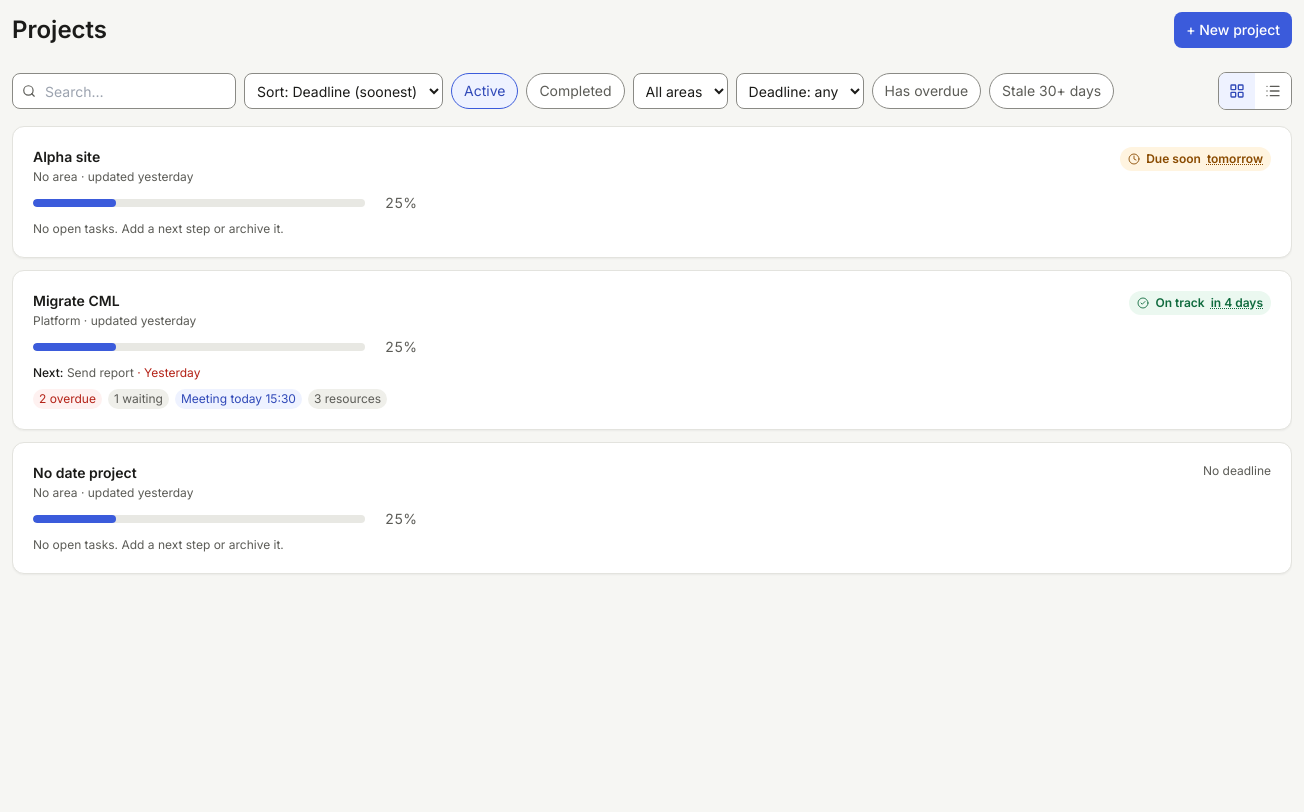
Test: ProjectsPage › sorting, filters and search are written to the URL
The image size is (1304, 812).
Expected: the heading "Migrate CML" is shown, x1=33 y1=292 x2=120 y2=309
Select "Sort: Name" in the dropdown named "Sort by" at (344, 91), box x1=244 y1=73 x2=443 y2=109
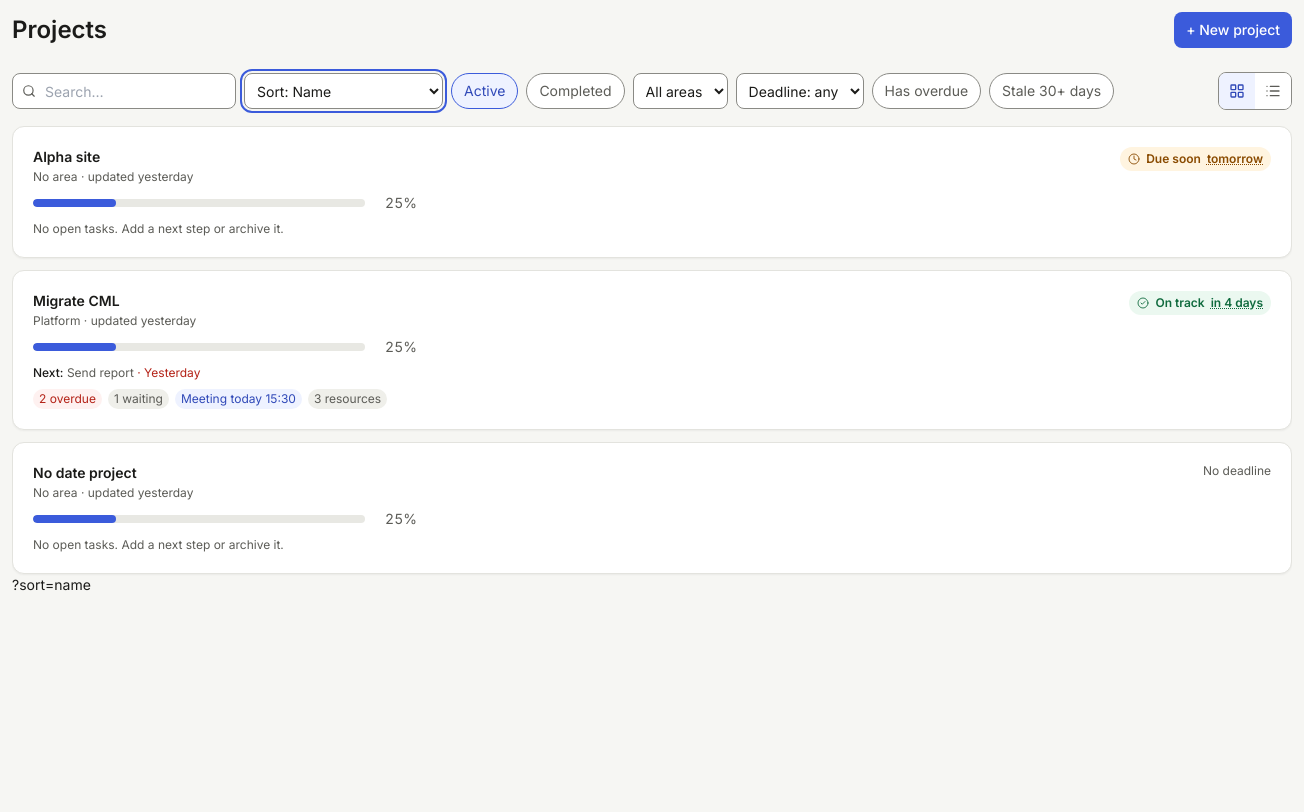
Now the text with test id "search" reads "?sort=name", box x1=12 y1=576 x2=91 y2=593
Click the button "Has overdue" at (926, 91), box x1=872 y1=73 x2=981 y2=109
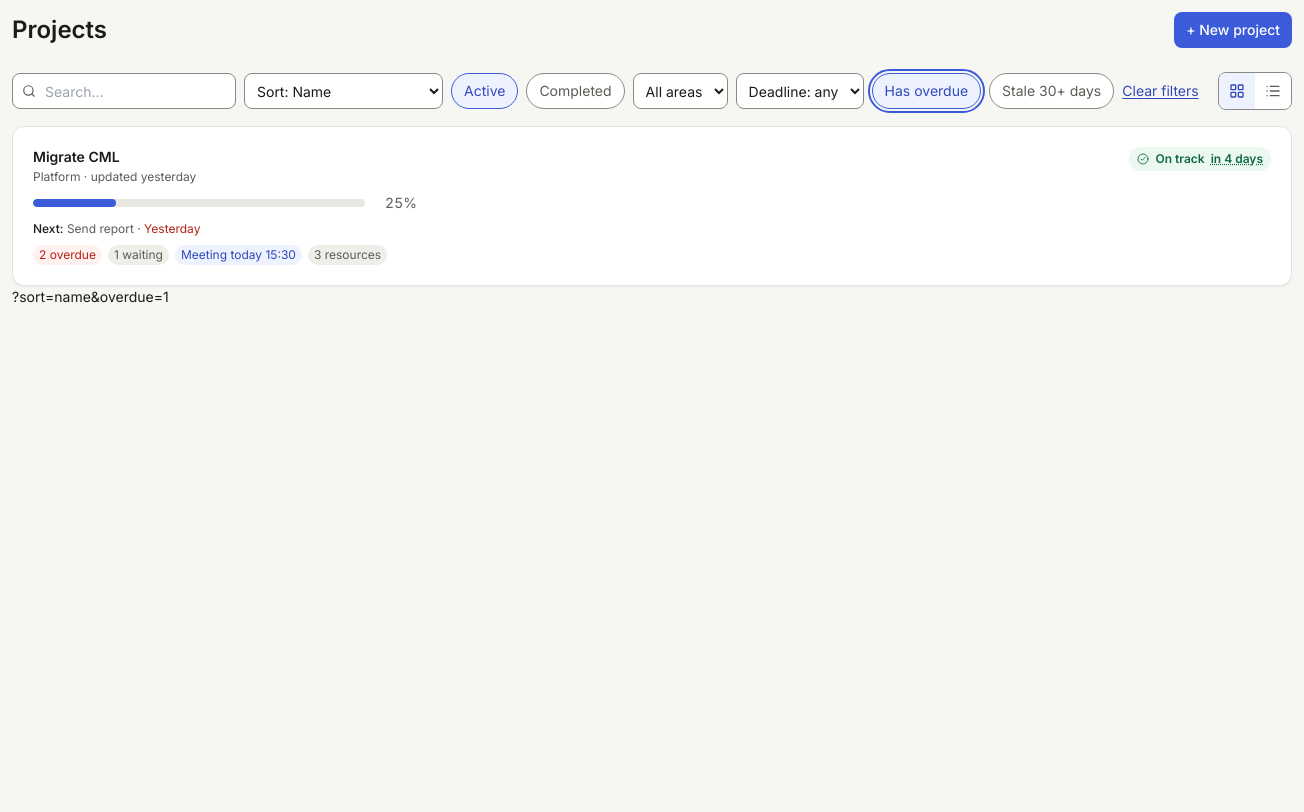
Now the text with test id "search" shows "overdue=1", box x1=12 y1=288 x2=169 y2=305
Select "Platform" in the dropdown named "All areas" at (680, 91), box x1=633 y1=73 x2=728 y2=109
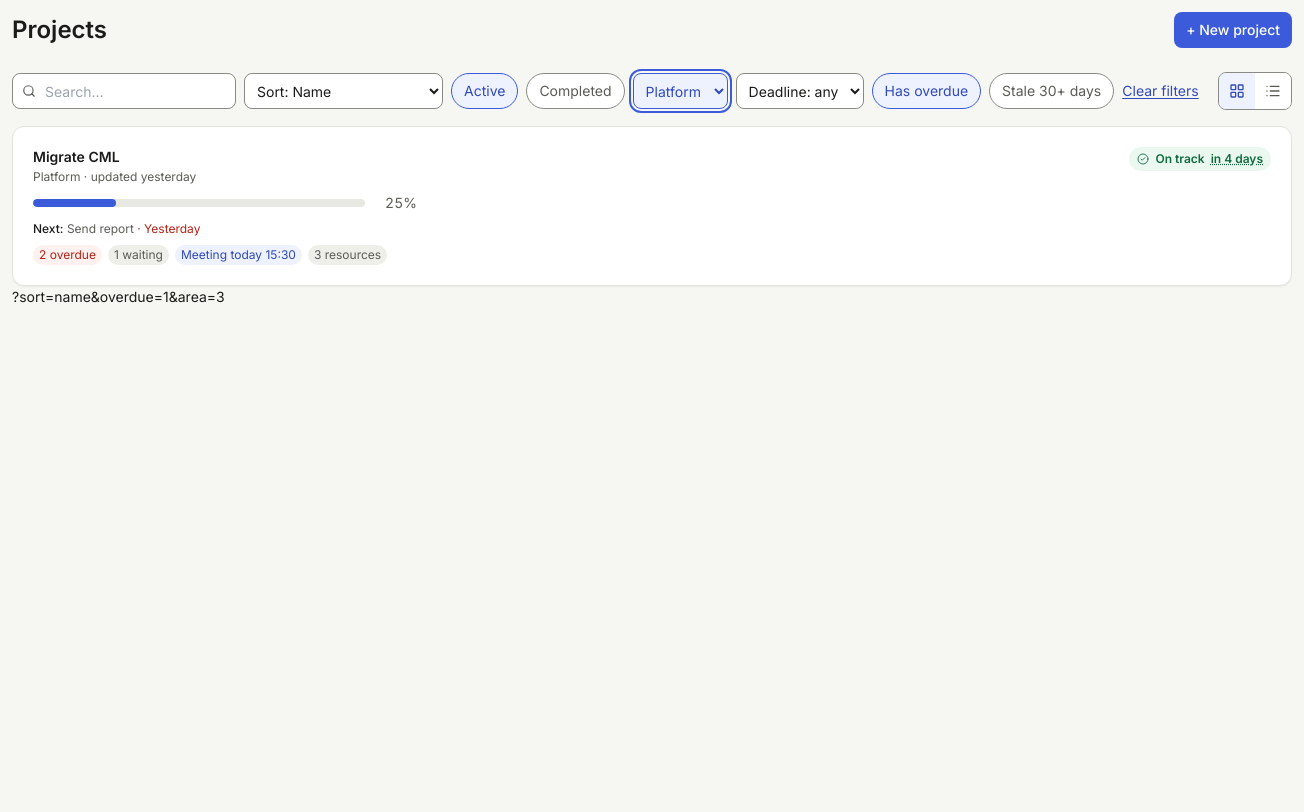
Now the text with test id "search" shows "area=3", box x1=12 y1=288 x2=225 y2=305
Click the button "Completed" at (576, 91), box x1=526 y1=73 x2=625 y2=109
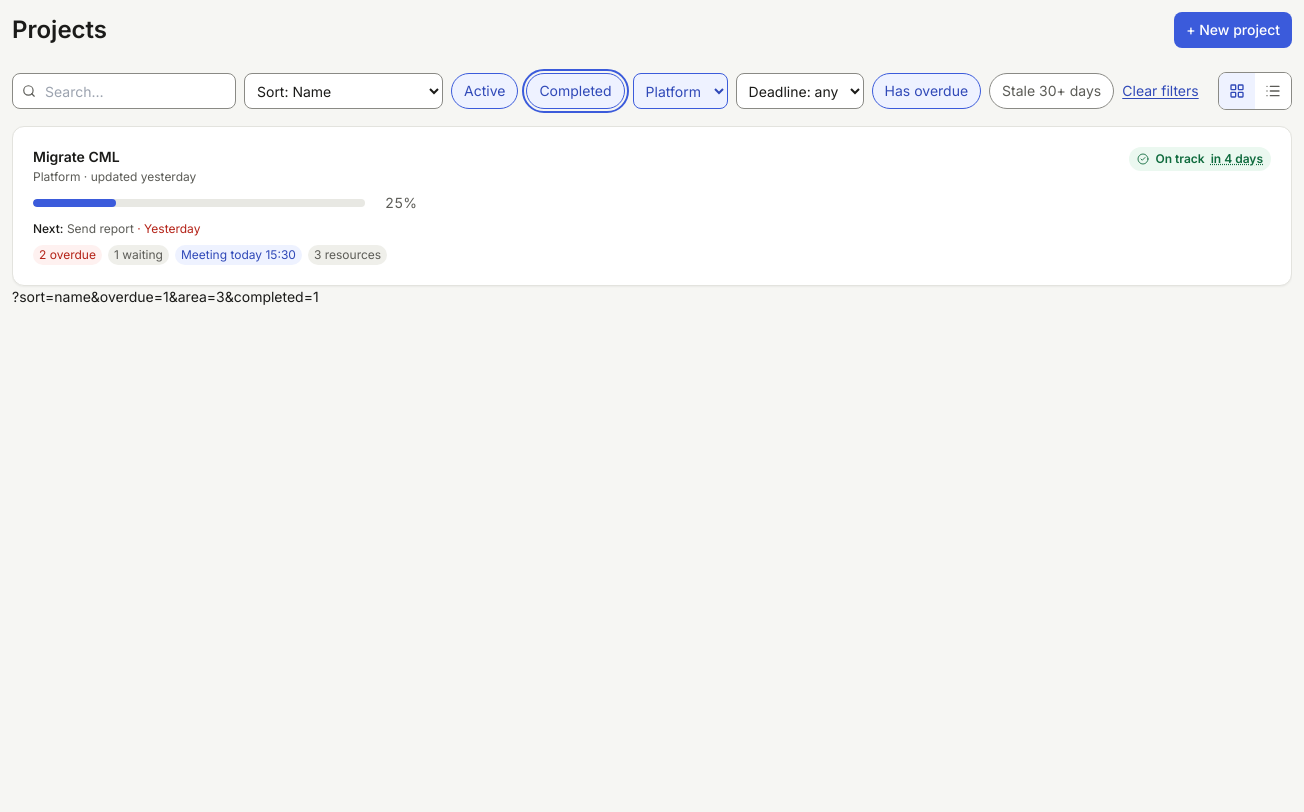
Now the text with test id "search" shows "completed=1", box x1=12 y1=288 x2=319 y2=305
